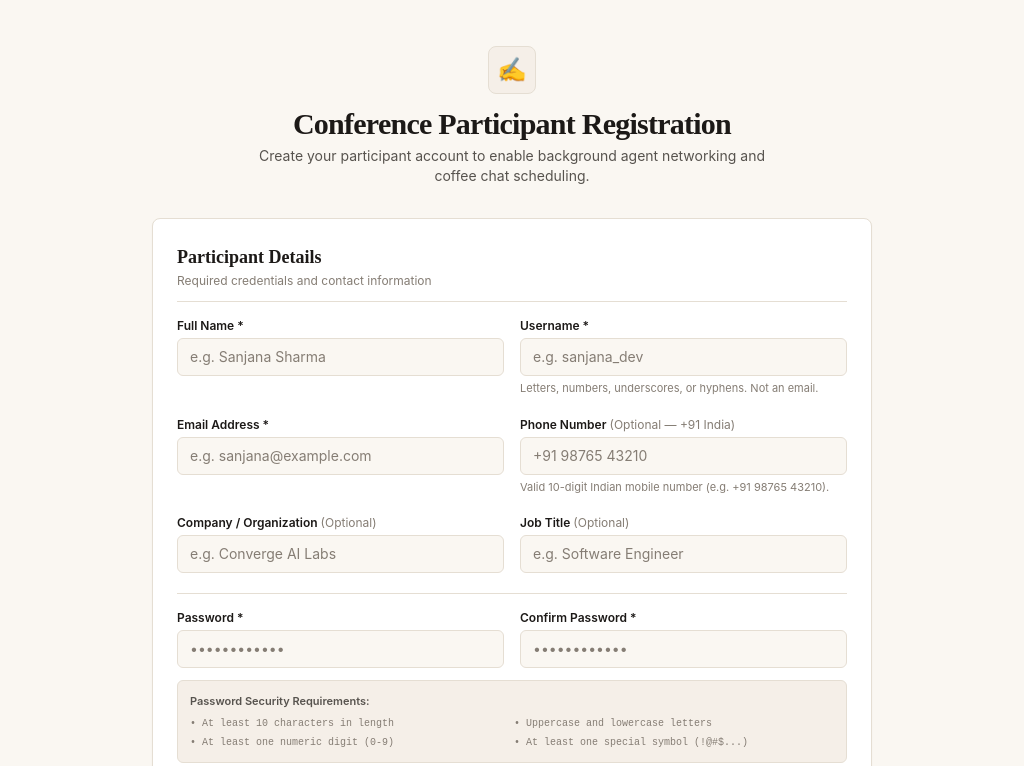
Test case: Register Component › validates password complexity requirements on the client (minimum 10 characters)
The image size is (1024, 766).
In the field labelled "Full Name *": {"x": 340, "y": 357} [177,338,504,376], type "Alex Morgan"
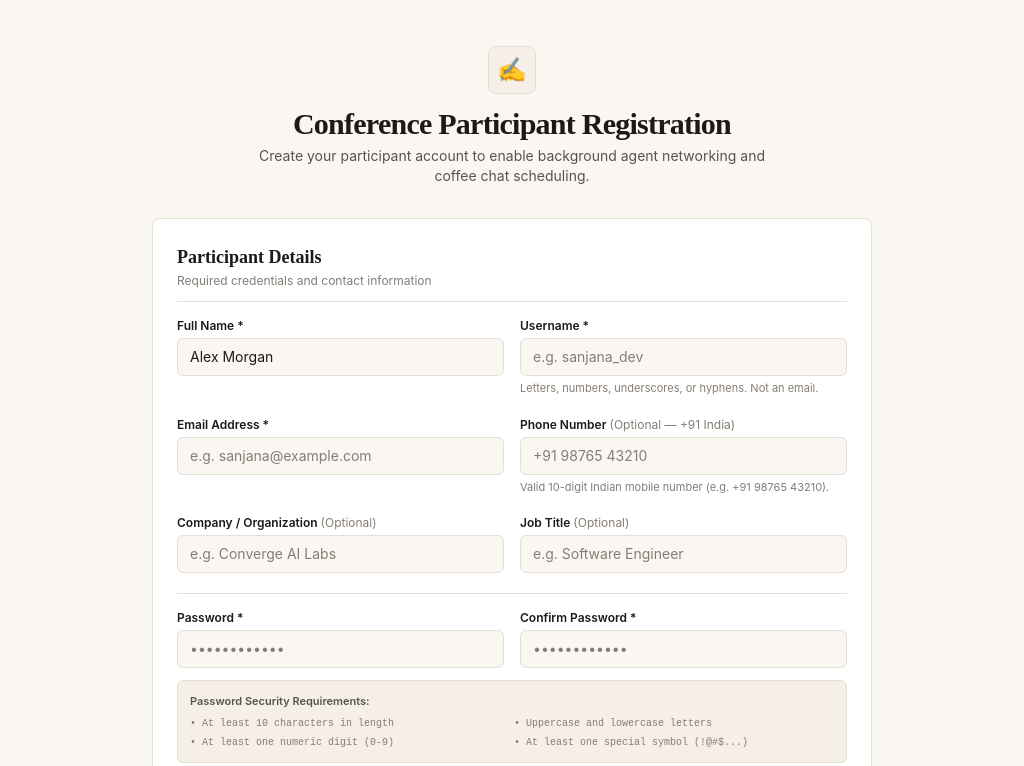
In the field labelled "Username *": {"x": 684, "y": 357} [520,338,847,376], type "alex_morgan"
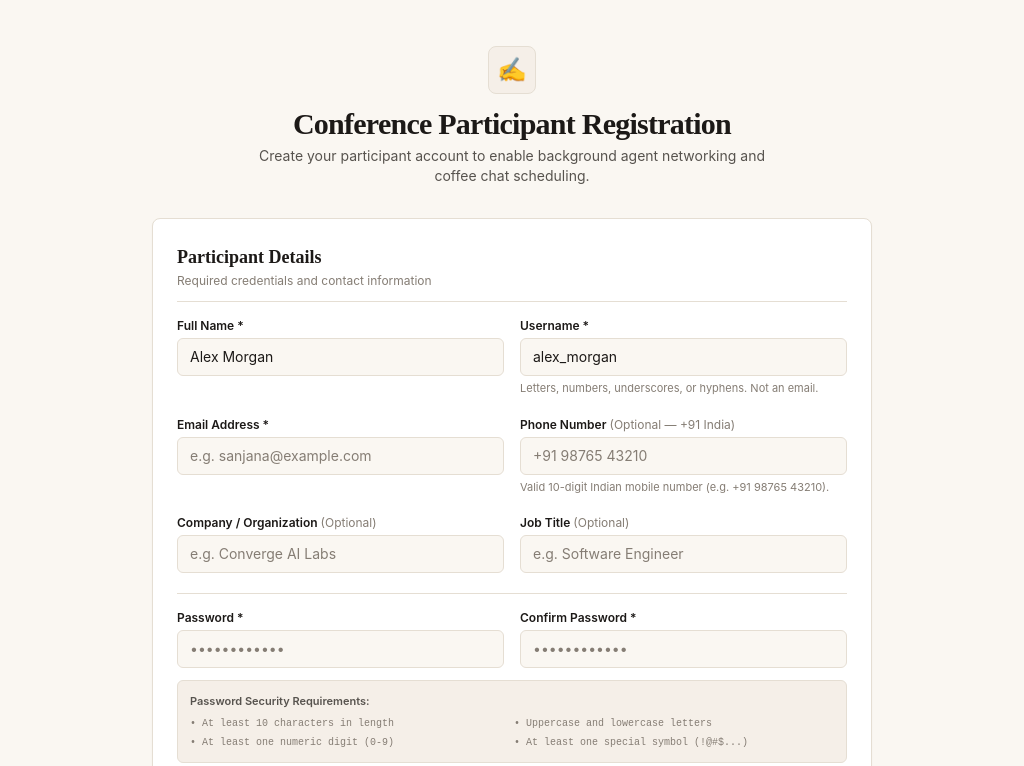
In the field labelled "Email Address *": {"x": 340, "y": 456} [177,436,504,474], type "alex@example.com"
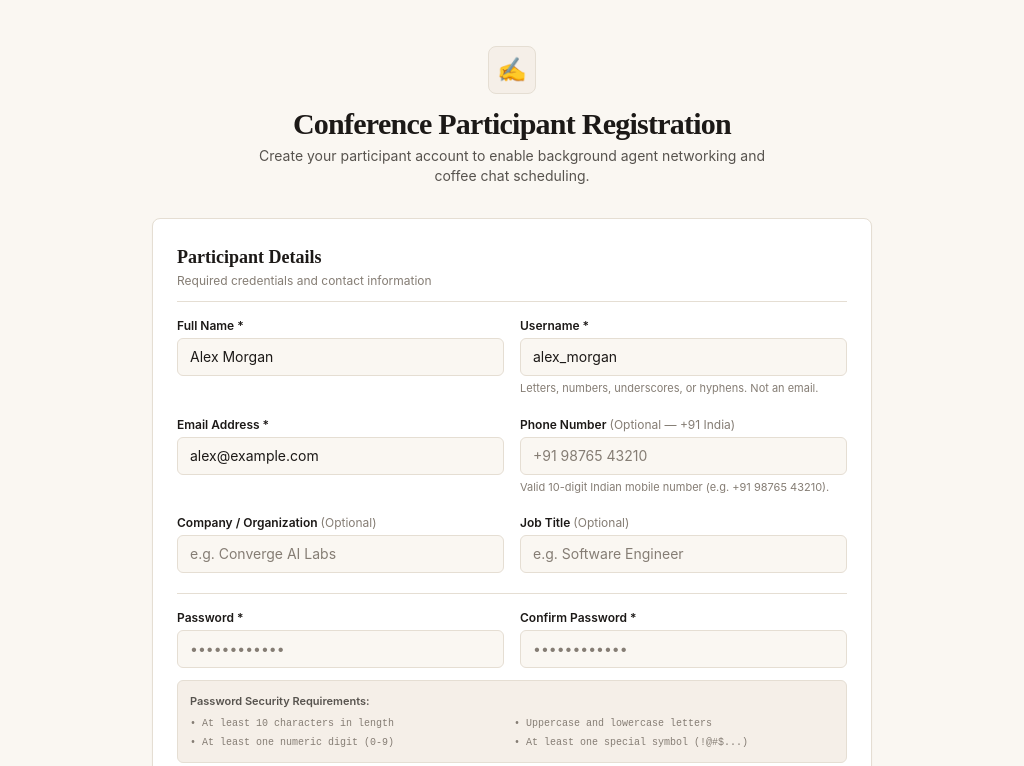
In the password field labelled "Password *": {"x": 340, "y": 649} [177,630,504,668], type "weak"
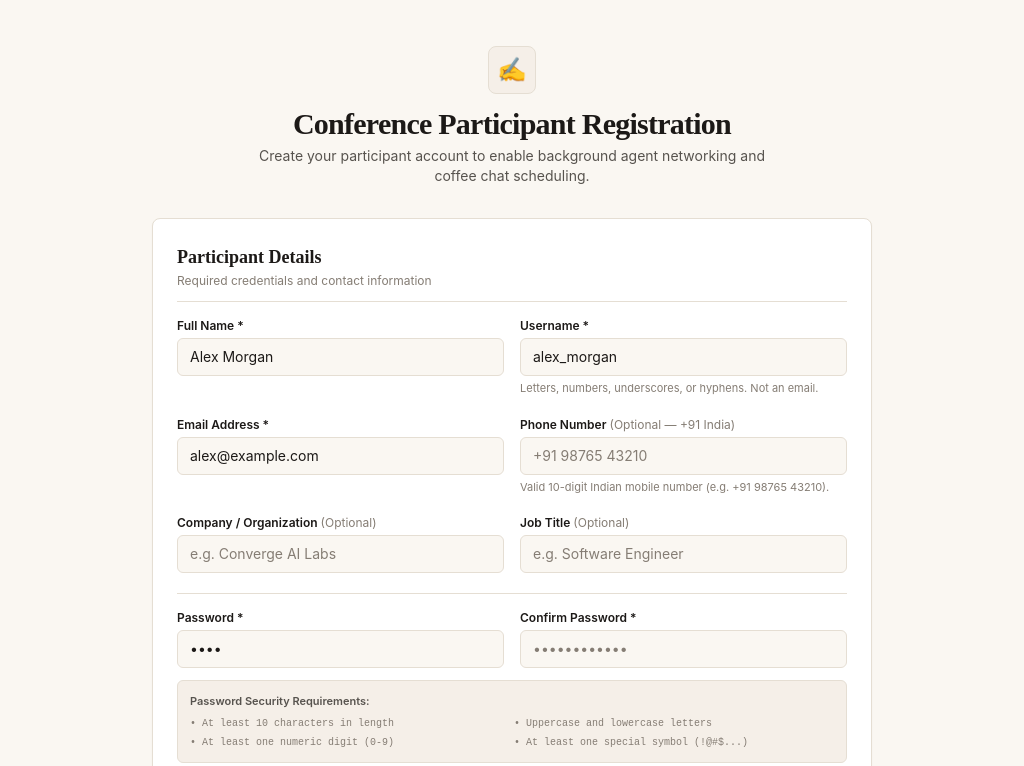
In the password field labelled "Confirm Password *": {"x": 684, "y": 649} [520,630,847,668], type "weak"
(page scrolled)
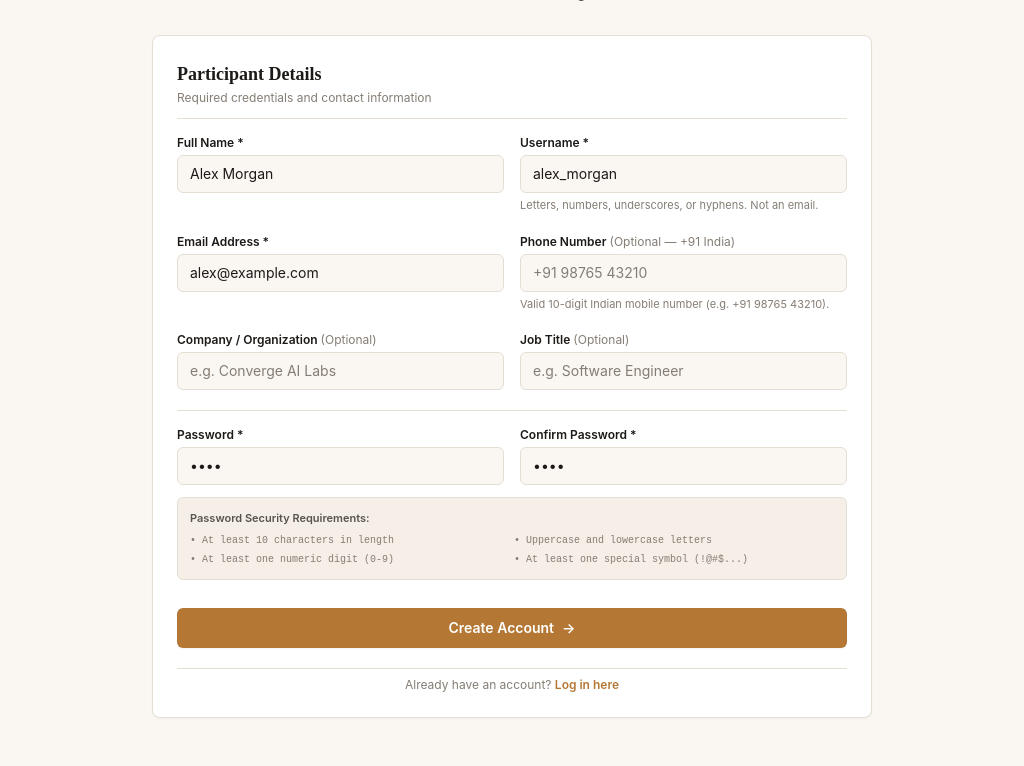
Click the button "Create Account →": {"x": 512, "y": 628} [177,608,847,648]
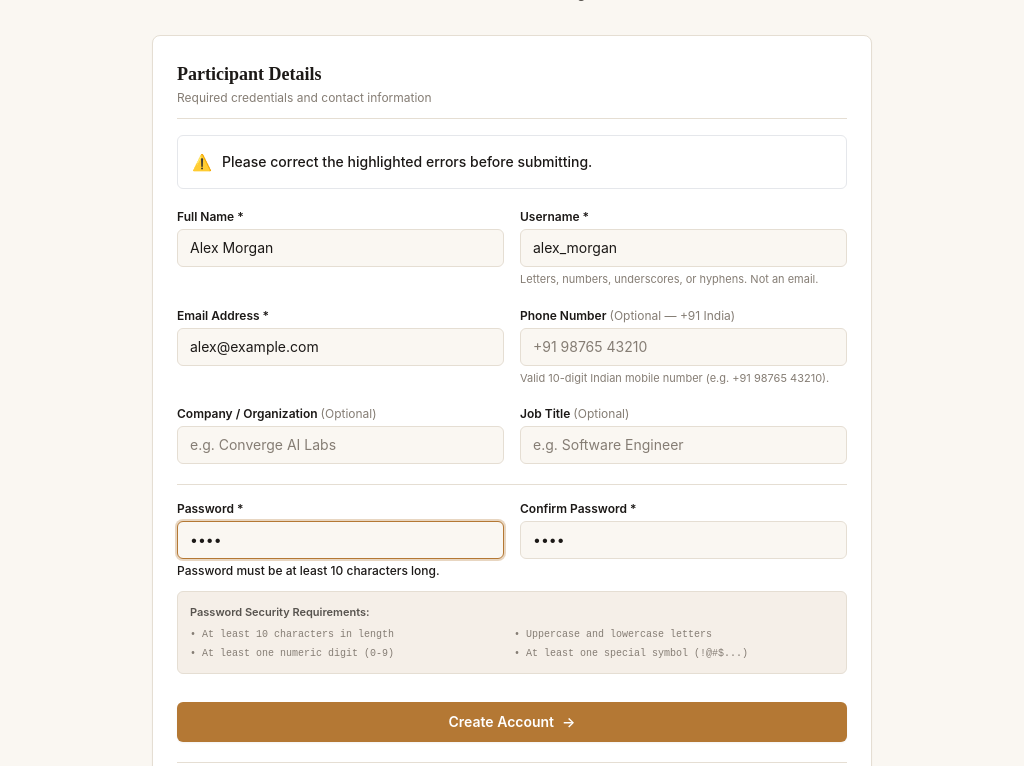
expect the text "Password must be at least 10 characters long." is shown: met, box [177,563,440,578]
